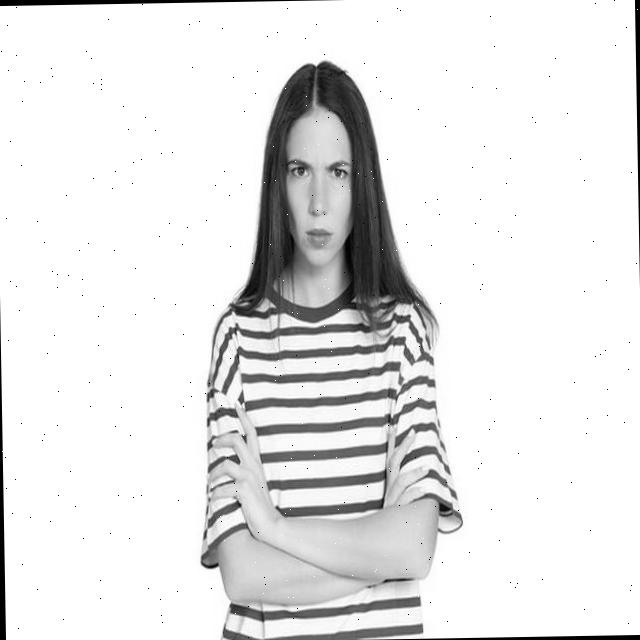Angry: (278, 112, 357, 266)
